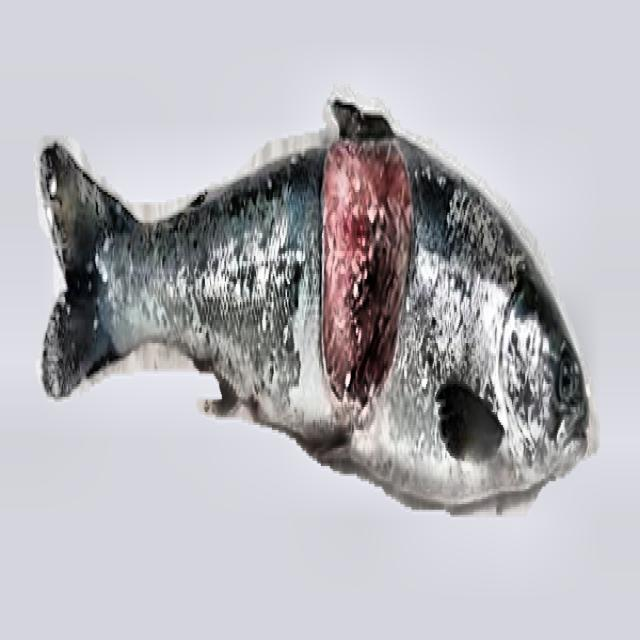mild_red: (101, 136, 543, 504)
wound: (322, 141, 413, 404)
